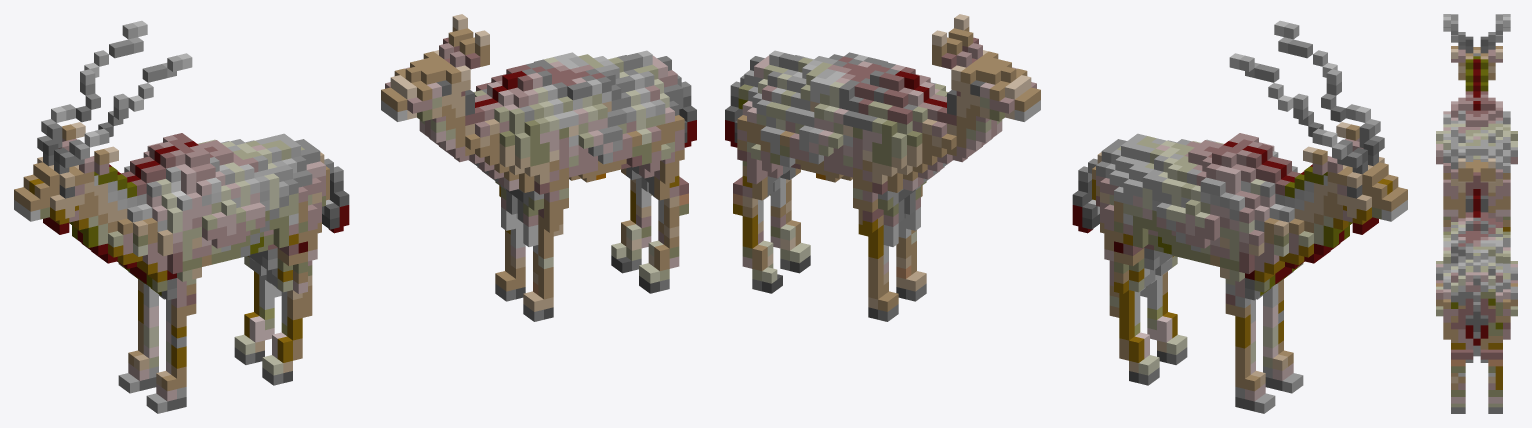
The model's file is greater_kudu_mf.gltf.
3 renders of one model, left to right at view 1: azimuth 30°, elevation 25°; view 2: azimuth 150°, elevation 25°; view 3: azimuth 270°, elevation 25°, orthographic. The views are drawn at different scales.
Visible parts, largest first — view 1: Geode; view 2: Geode; view 3: Geode.
Boxes of the visible parts, x1,y1,x2,y2 form: Geode: (14,14,696,413); Geode: (725,14,1407,413); Geode: (1436,14,1517,413).
Bounding box in the file's own units: 69 × 35 × 11.
